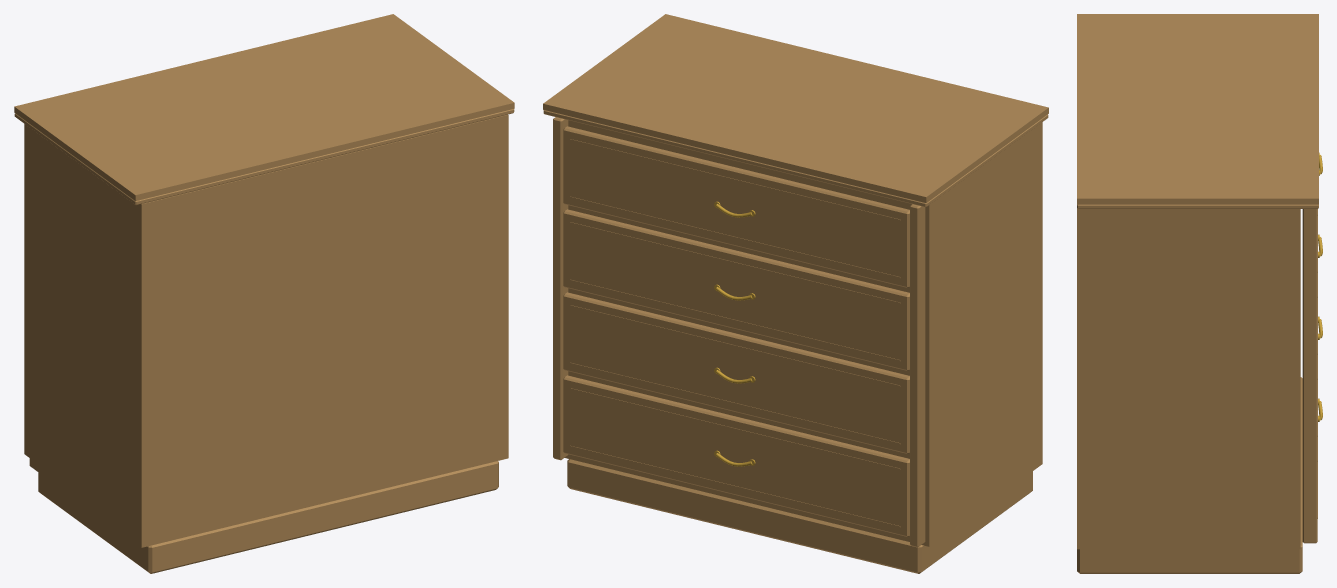
The model's file is parametric-chest-2nd-pub.glb.
3 renders of one model, left to right at view 1: azimuth 30°, elevation 25°; view 2: azimuth 150°, elevation 25°; view 3: azimuth 270°, elevation 25°, orthographic.
Parts seen in each view (by area): view 1: parametric-chest-2nd-pub; view 2: parametric-chest-2nd-pub; view 3: parametric-chest-2nd-pub.
Part boxes in pixels (x1,y1,x2,y2): parametric-chest-2nd-pub: (14, 14, 514, 573); parametric-chest-2nd-pub: (543, 14, 1048, 573); parametric-chest-2nd-pub: (1077, 14, 1322, 573).
Bounding box in the file's own units: 0.93 × 0.9 × 0.5233.
